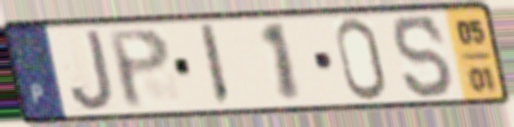0: (332, 14, 390, 104)
1: (258, 19, 303, 105)
I: (196, 22, 234, 109)
J: (68, 27, 117, 114)
P: (104, 25, 174, 111)
S: (390, 12, 457, 101)
